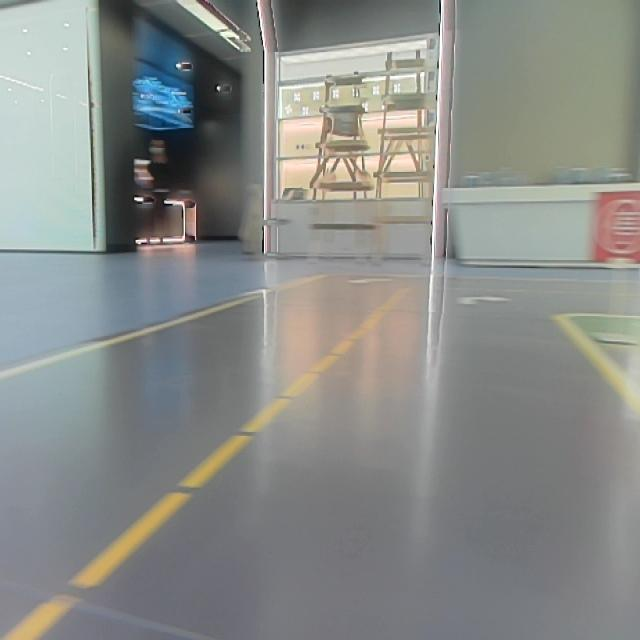left_lane: (1, 298, 391, 637)
right_lane: (4, 284, 280, 381), (558, 320, 640, 427)
